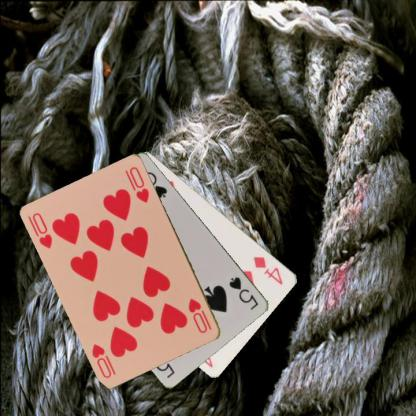10h: (186, 296, 213, 334), (30, 210, 54, 250)
4d: (251, 254, 284, 286)
5s: (226, 274, 260, 311)
